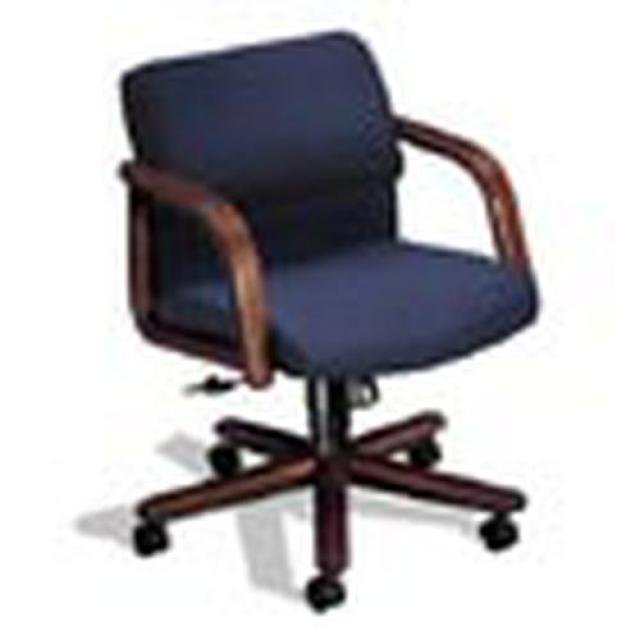swivelchair: (116, 29, 541, 613)
